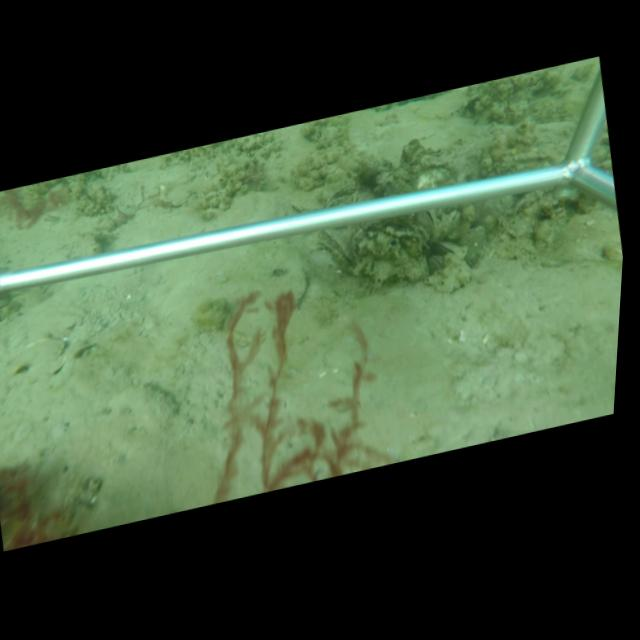Oyster-Closed: (316, 229, 354, 268), (419, 209, 438, 242), (435, 241, 466, 256), (427, 253, 443, 268)
